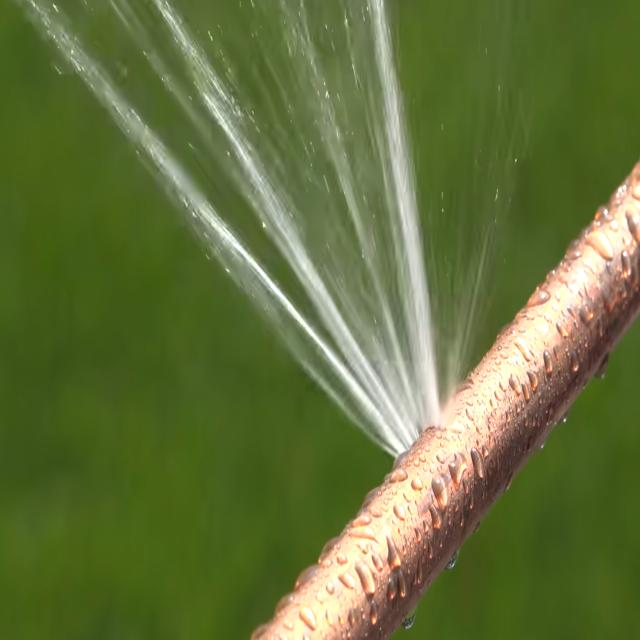leak: (25, 0, 440, 453)
